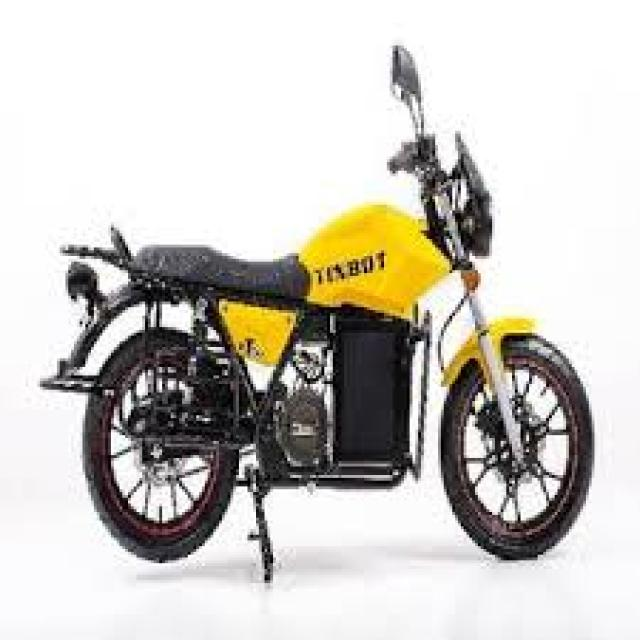bodaboda: (37, 24, 606, 602)
